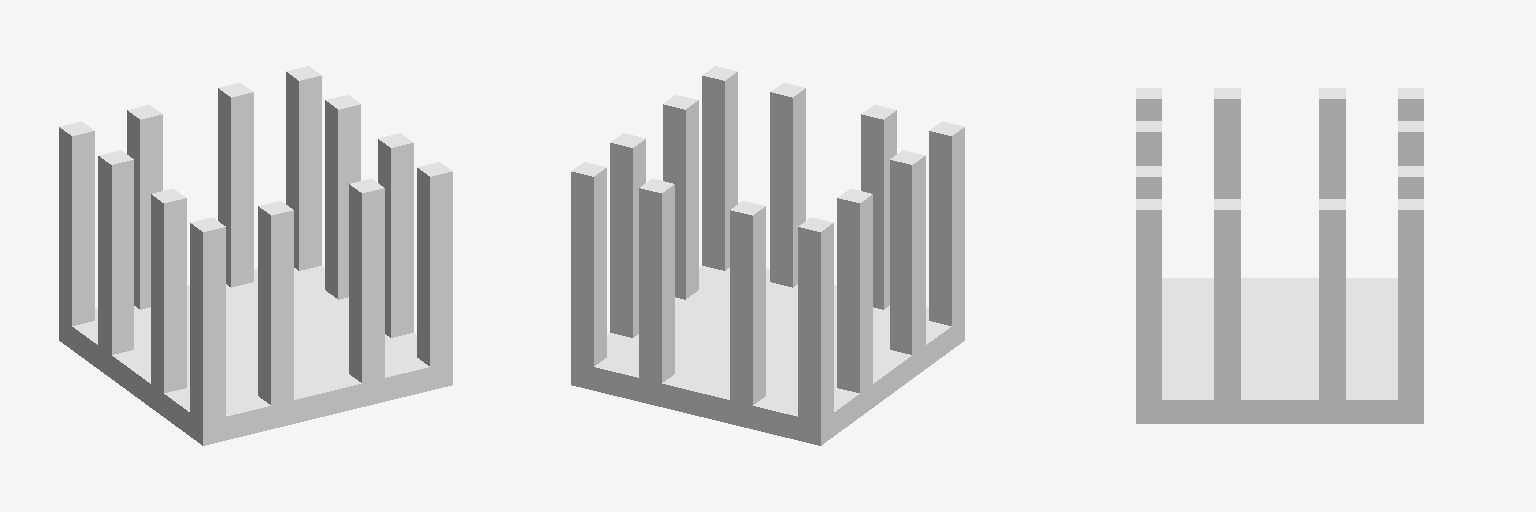
Rendered from prision.obj.
The picture shows the model from 3 angles: view 1: azimuth 30°, elevation 25°; view 2: azimuth 150°, elevation 25°; view 3: azimuth 270°, elevation 25°; orthographic projection.
Visible parts, largest first — view 1: object 1; view 2: object 1; view 3: object 1.
Part boxes in pixels (x1,y1,x2,y2): object 1: (59, 66, 452, 445); object 1: (571, 66, 964, 445); object 1: (1136, 88, 1423, 423).
Bounding box in the file's own units: 1.1 × 0.9 × 1.1.